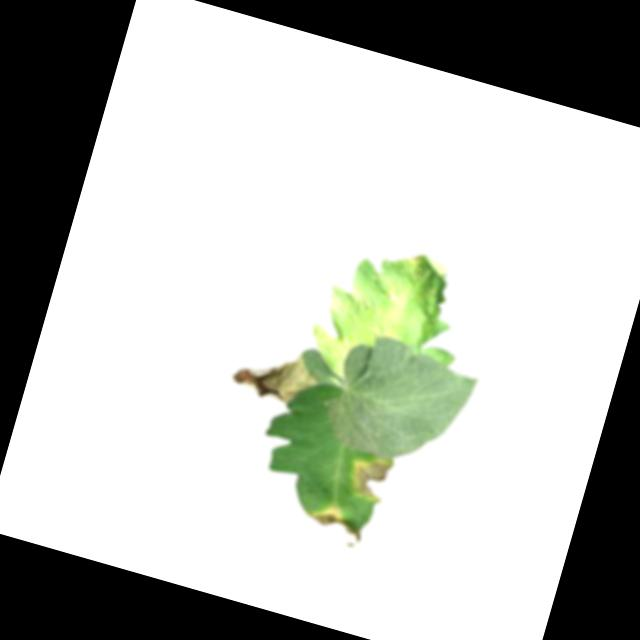Late_blight: (226, 334, 326, 412), (306, 500, 369, 549), (344, 450, 397, 505), (400, 250, 430, 283), (380, 281, 408, 310)
